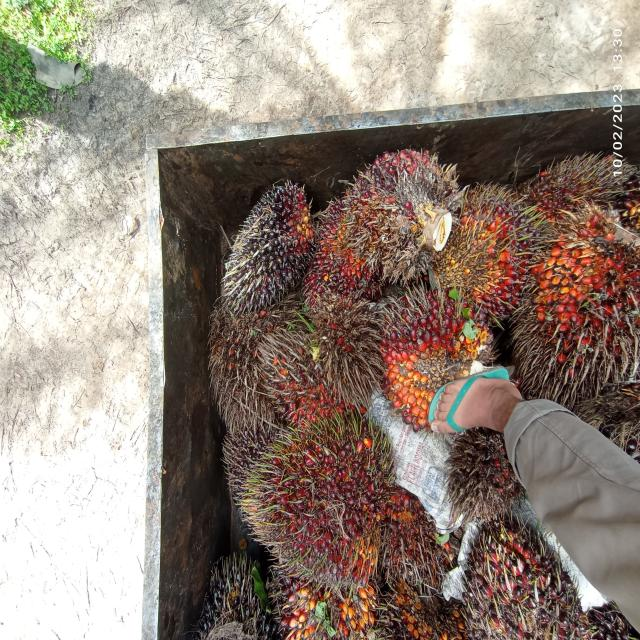fraksi 00: (212, 166, 324, 332)
fraksi 1: (235, 418, 388, 585), (335, 132, 472, 278)
fraksi 3: (349, 272, 505, 442), (421, 157, 540, 348), (304, 194, 370, 324)
fraksi 4: (500, 185, 640, 418), (250, 329, 377, 451)
